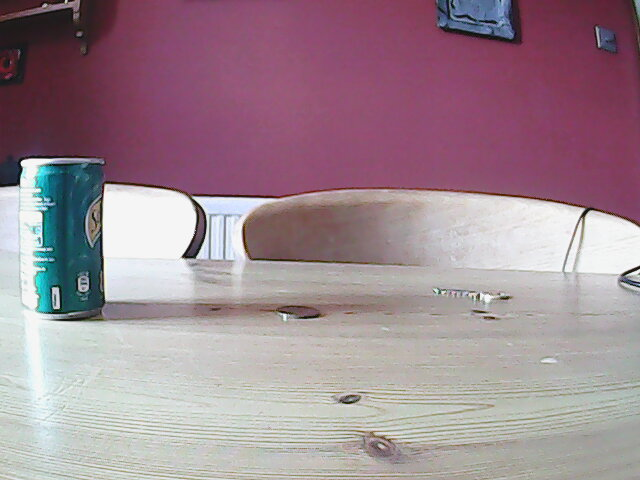Can: (14, 154, 113, 319)
Coin: (273, 301, 320, 320)
Key: (424, 282, 515, 305)
